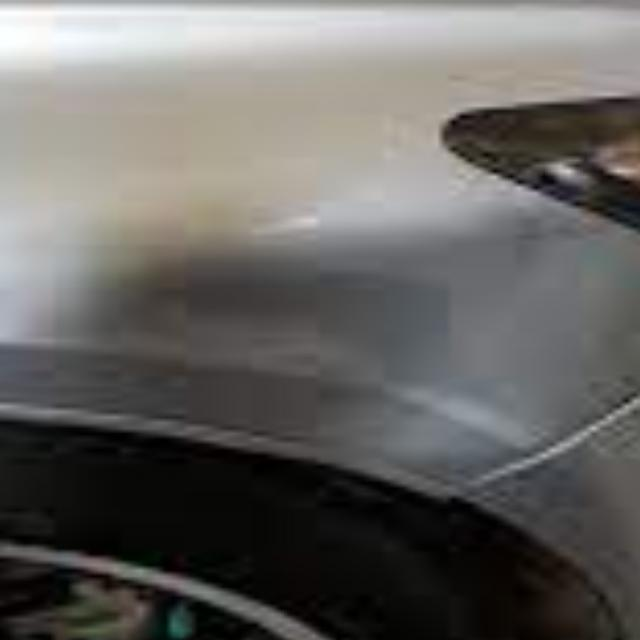dents: (105, 215, 562, 424)
